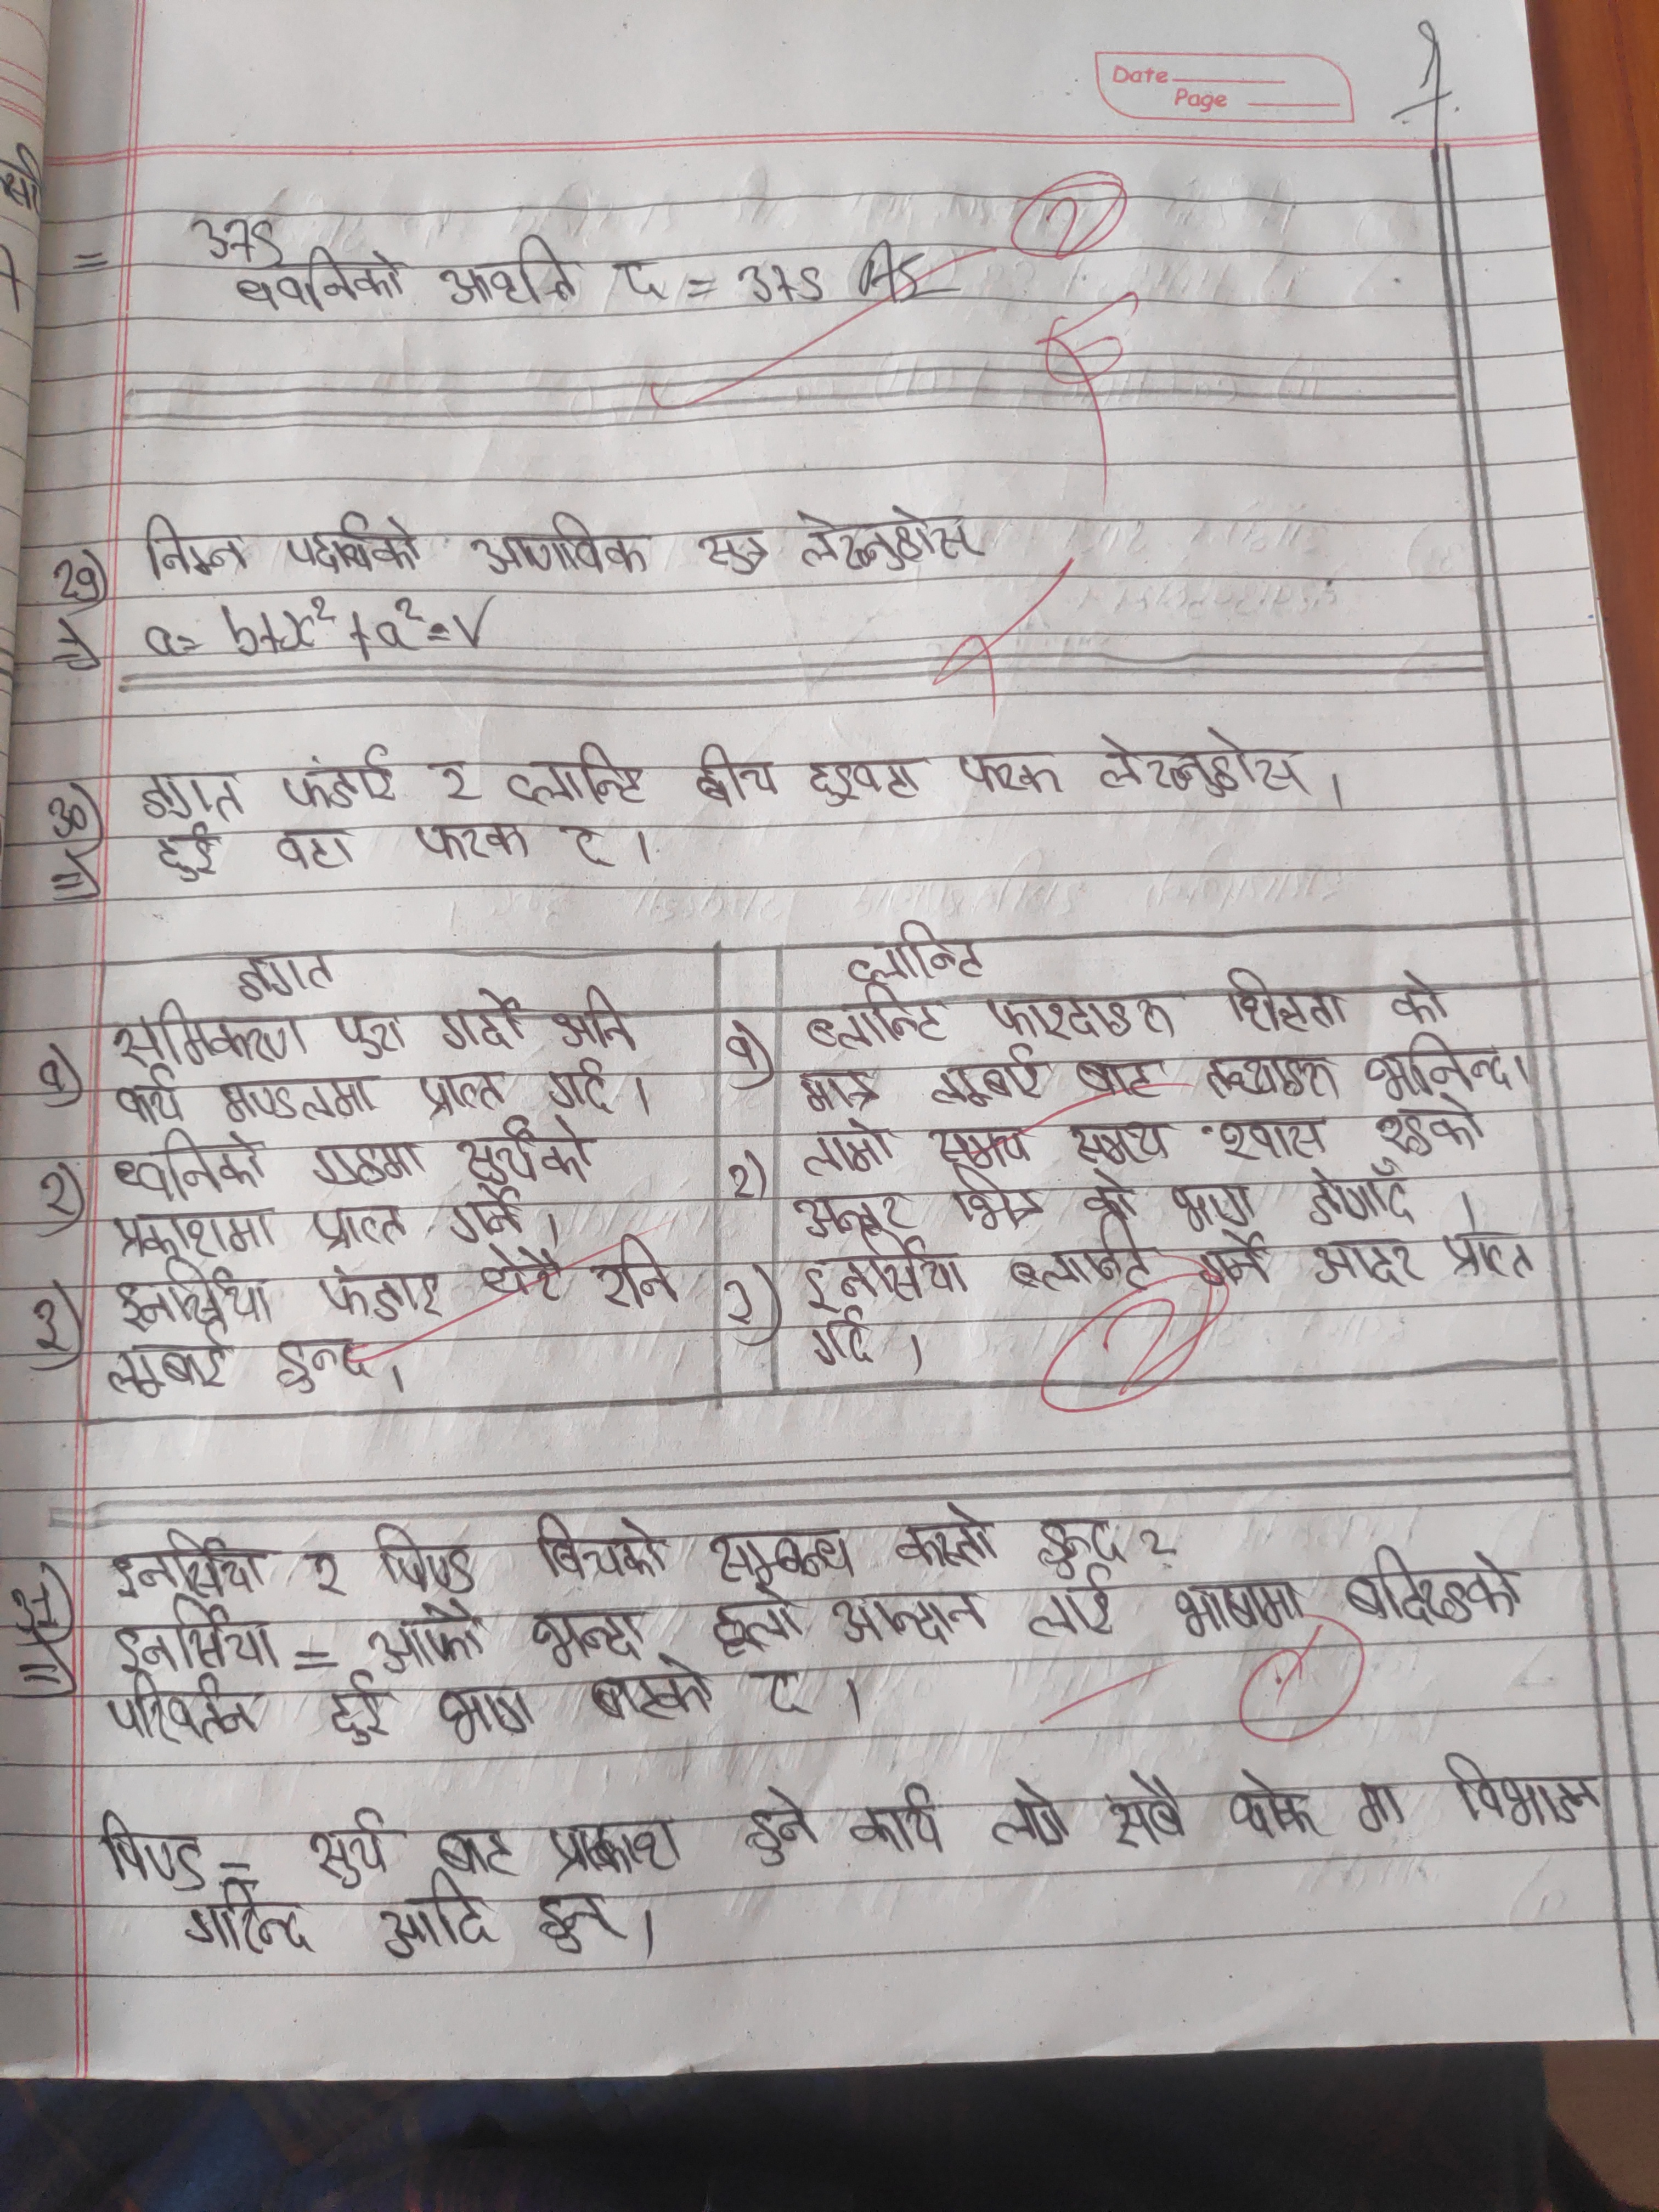text: (1087, 725, 1314, 799), (1342, 1541, 1528, 1627), (793, 502, 990, 575), (1436, 1747, 1603, 1832), (112, 1597, 286, 1677), (108, 1000, 314, 1066), (1006, 1219, 1166, 1301), (789, 1238, 974, 1306), (471, 510, 653, 578), (234, 246, 411, 315), (436, 230, 586, 312), (99, 1672, 263, 1747), (108, 1527, 270, 1602), (112, 1264, 279, 1334), (455, 1111, 603, 1188), (1358, 1031, 1520, 1101), (112, 1129, 268, 1200), (92, 1804, 211, 1898), (523, 1507, 678, 1578), (375, 1878, 498, 1965), (974, 991, 1183, 1042), (704, 1524, 863, 1588), (282, 510, 429, 580), (500, 738, 647, 808), (1438, 1190, 1542, 1287), (824, 1588, 992, 1649), (540, 1813, 694, 1879), (805, 981, 945, 1052), (176, 1886, 312, 1959), (362, 1519, 486, 1599), (1164, 1573, 1305, 1642), (845, 918, 995, 982), (586, 1658, 720, 1730), (105, 1325, 232, 1400), (113, 1207, 277, 1263), (1218, 965, 1347, 1035), (312, 1261, 446, 1327), (211, 1068, 378, 1120), (369, 1597, 491, 1669), (1197, 1042, 1338, 1103), (281, 740, 403, 810), (528, 1604, 653, 1670), (924, 1042, 1047, 1108), (1023, 1564, 1124, 1644), (138, 510, 256, 578), (711, 1581, 810, 1662), (1373, 1090, 1490, 1158), (892, 1501, 1002, 1573), (432, 1683, 544, 1752), (849, 1780, 950, 1857), (592, 1231, 687, 1313), (939, 1165, 1054, 1231), (1222, 1773, 1328, 1844), (308, 1804, 397, 1890), (1302, 1165, 1422, 1228), (530, 1888, 638, 1958), (1103, 1768, 1192, 1850), (547, 979, 641, 1055), (735, 1787, 823, 1869), (802, 752, 925, 808), (1310, 1233, 1429, 1291), (1063, 1109, 1176, 1169), (471, 1242, 572, 1308), (1215, 1113, 1333, 1169), (1030, 1512, 1129, 1578), (687, 740, 781, 810), (268, 1331, 371, 1393), (437, 984, 530, 1054), (310, 1137, 429, 1191), (1164, 1176, 1272, 1235), (132, 768, 249, 822), (988, 1775, 1073, 1848), (791, 1184, 906, 1238), (795, 1118, 896, 1179), (228, 949, 340, 1001), (1066, 1047, 1164, 1106), (321, 1670, 392, 1749), (948, 751, 1066, 798), (1188, 1230, 1274, 1294), (326, 1003, 420, 1061), (443, 1184, 528, 1247), (925, 1120, 1035, 1169), (410, 820, 532, 864), (805, 1308, 885, 1371), (429, 1825, 525, 1878), (110, 1064, 190, 1125), (538, 1062, 622, 1120), (415, 1069, 512, 1118), (153, 820, 227, 885), (695, 523, 775, 580), (1075, 1162, 1154, 1219), (275, 820, 361, 873), (789, 1064, 884, 1111), (310, 1209, 411, 1251), (746, 1669, 817, 1726), (612, 247, 678, 307), (1387, 970, 1453, 1026), (1349, 1780, 1410, 1836), (301, 1543, 357, 1599), (561, 824, 622, 873), (429, 758, 486, 806)
